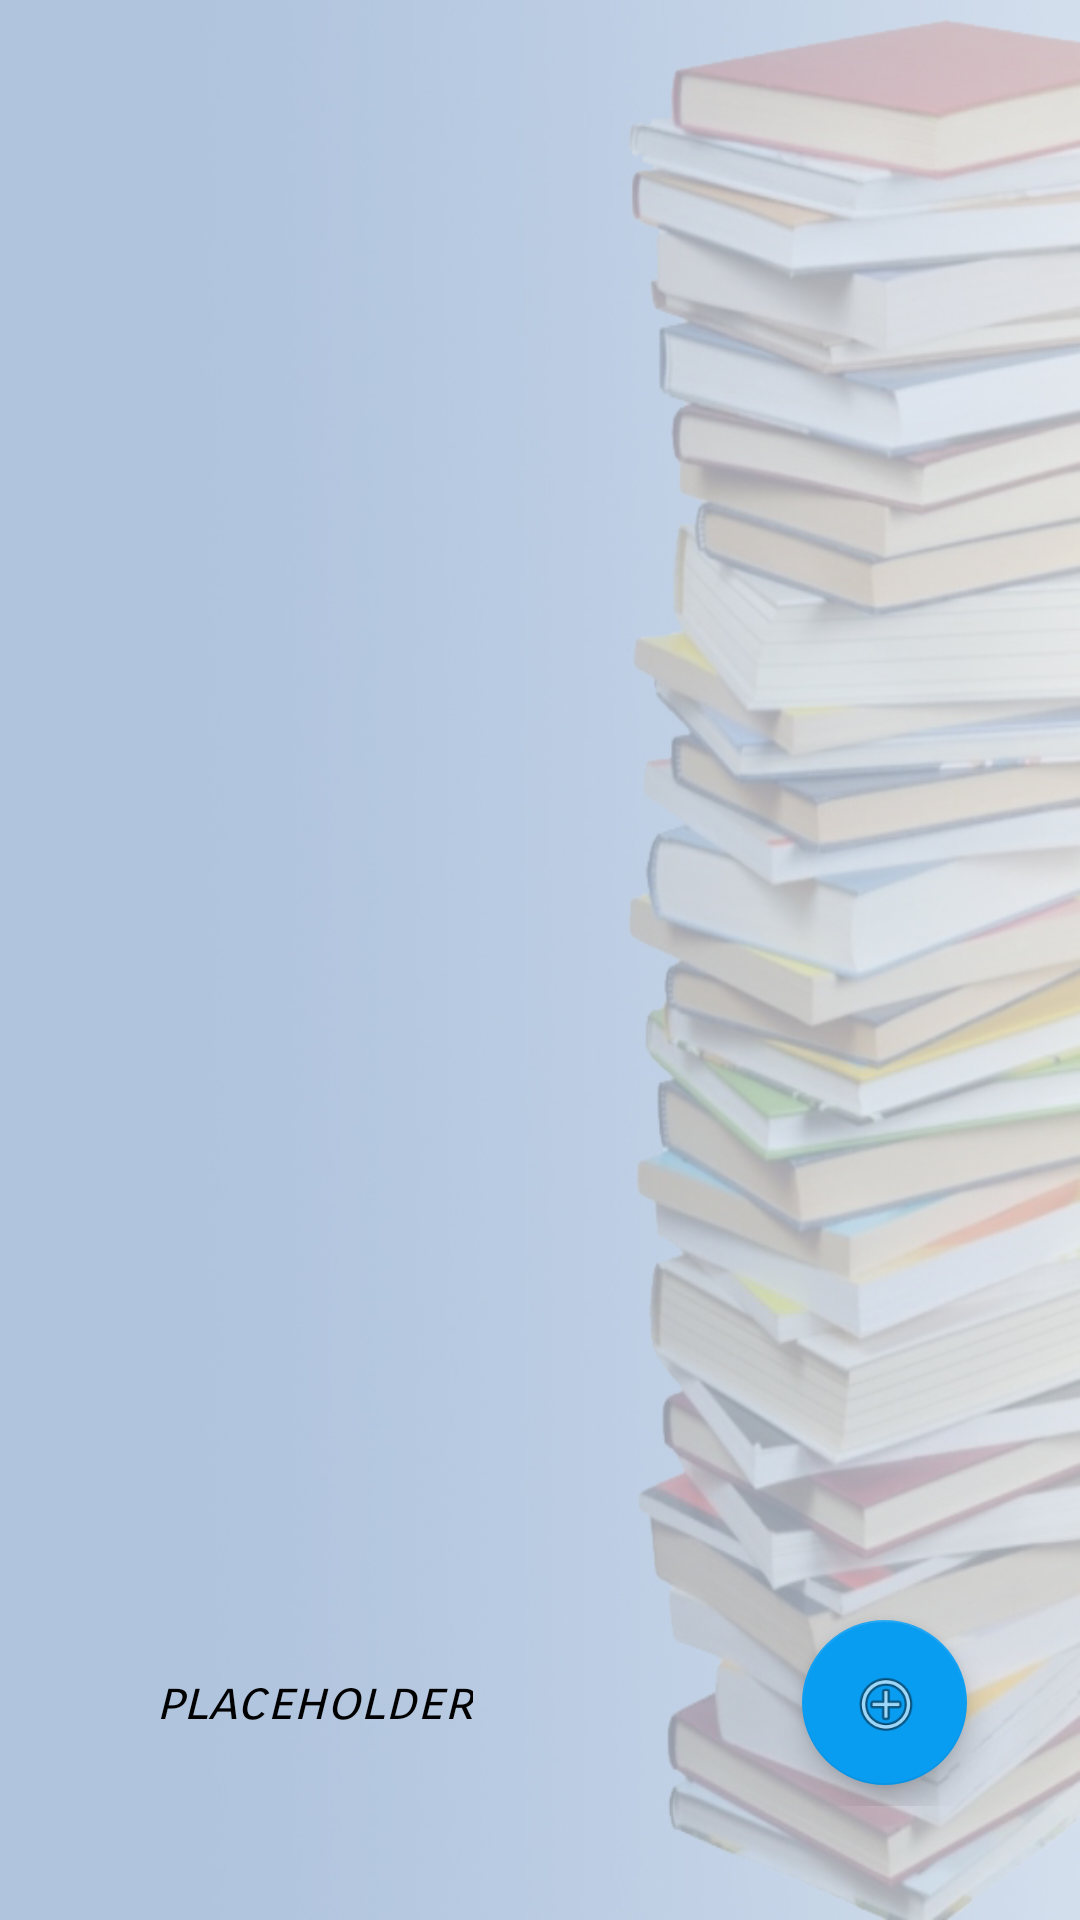

Where to tap for icons on this 1080*1920 app screen, as [x,y]:
add: [884,1702]
